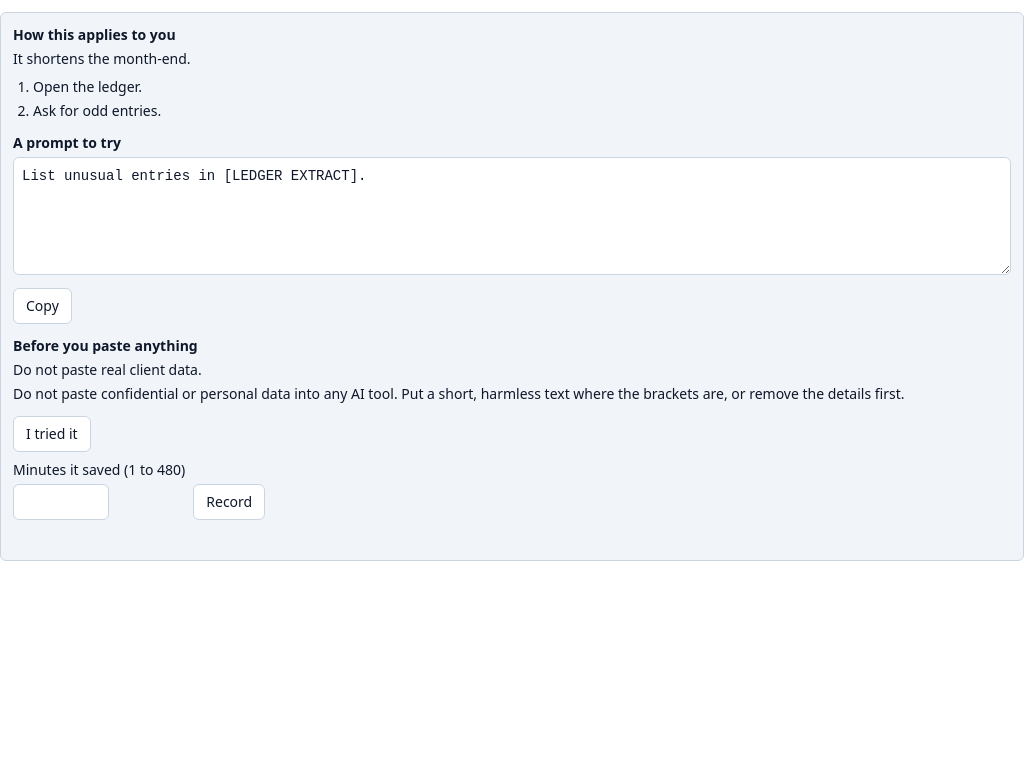
copying › puts the prompt on the clipboard and says so
This screenshot has width=1024, height=768.
Click the button "Copy" at point(42, 306), box [13,288,72,324]
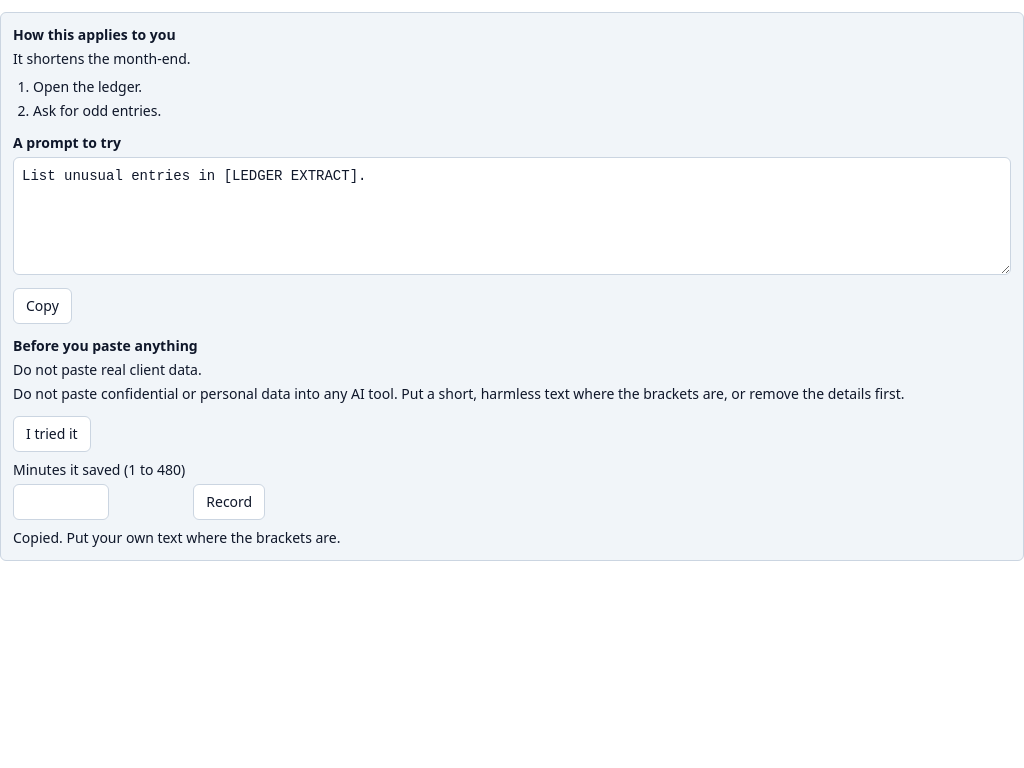
Result: the text "Copied. Put your own text where the brackets are." is shown at [13,528,340,547]
